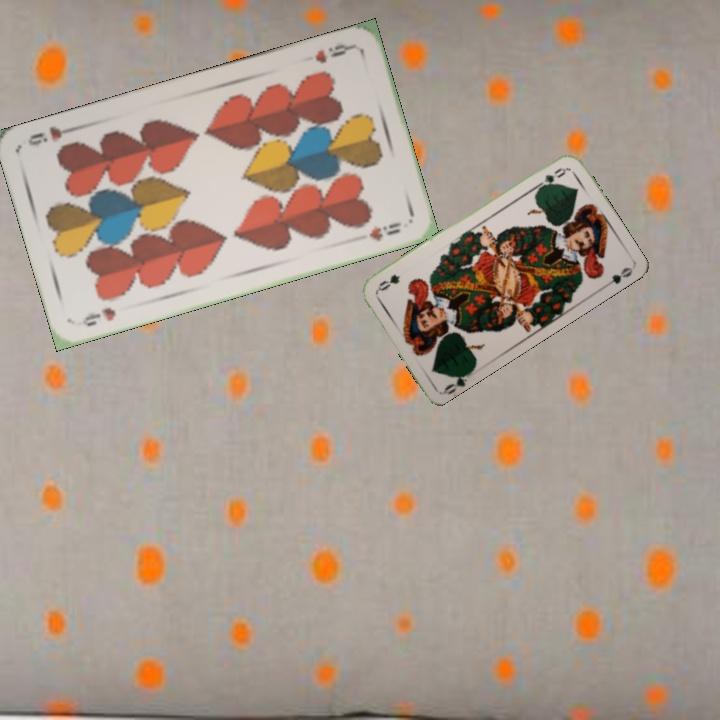GO: (532, 163, 569, 193), (440, 367, 475, 397)
H9: (311, 39, 357, 66), (78, 303, 118, 329)
